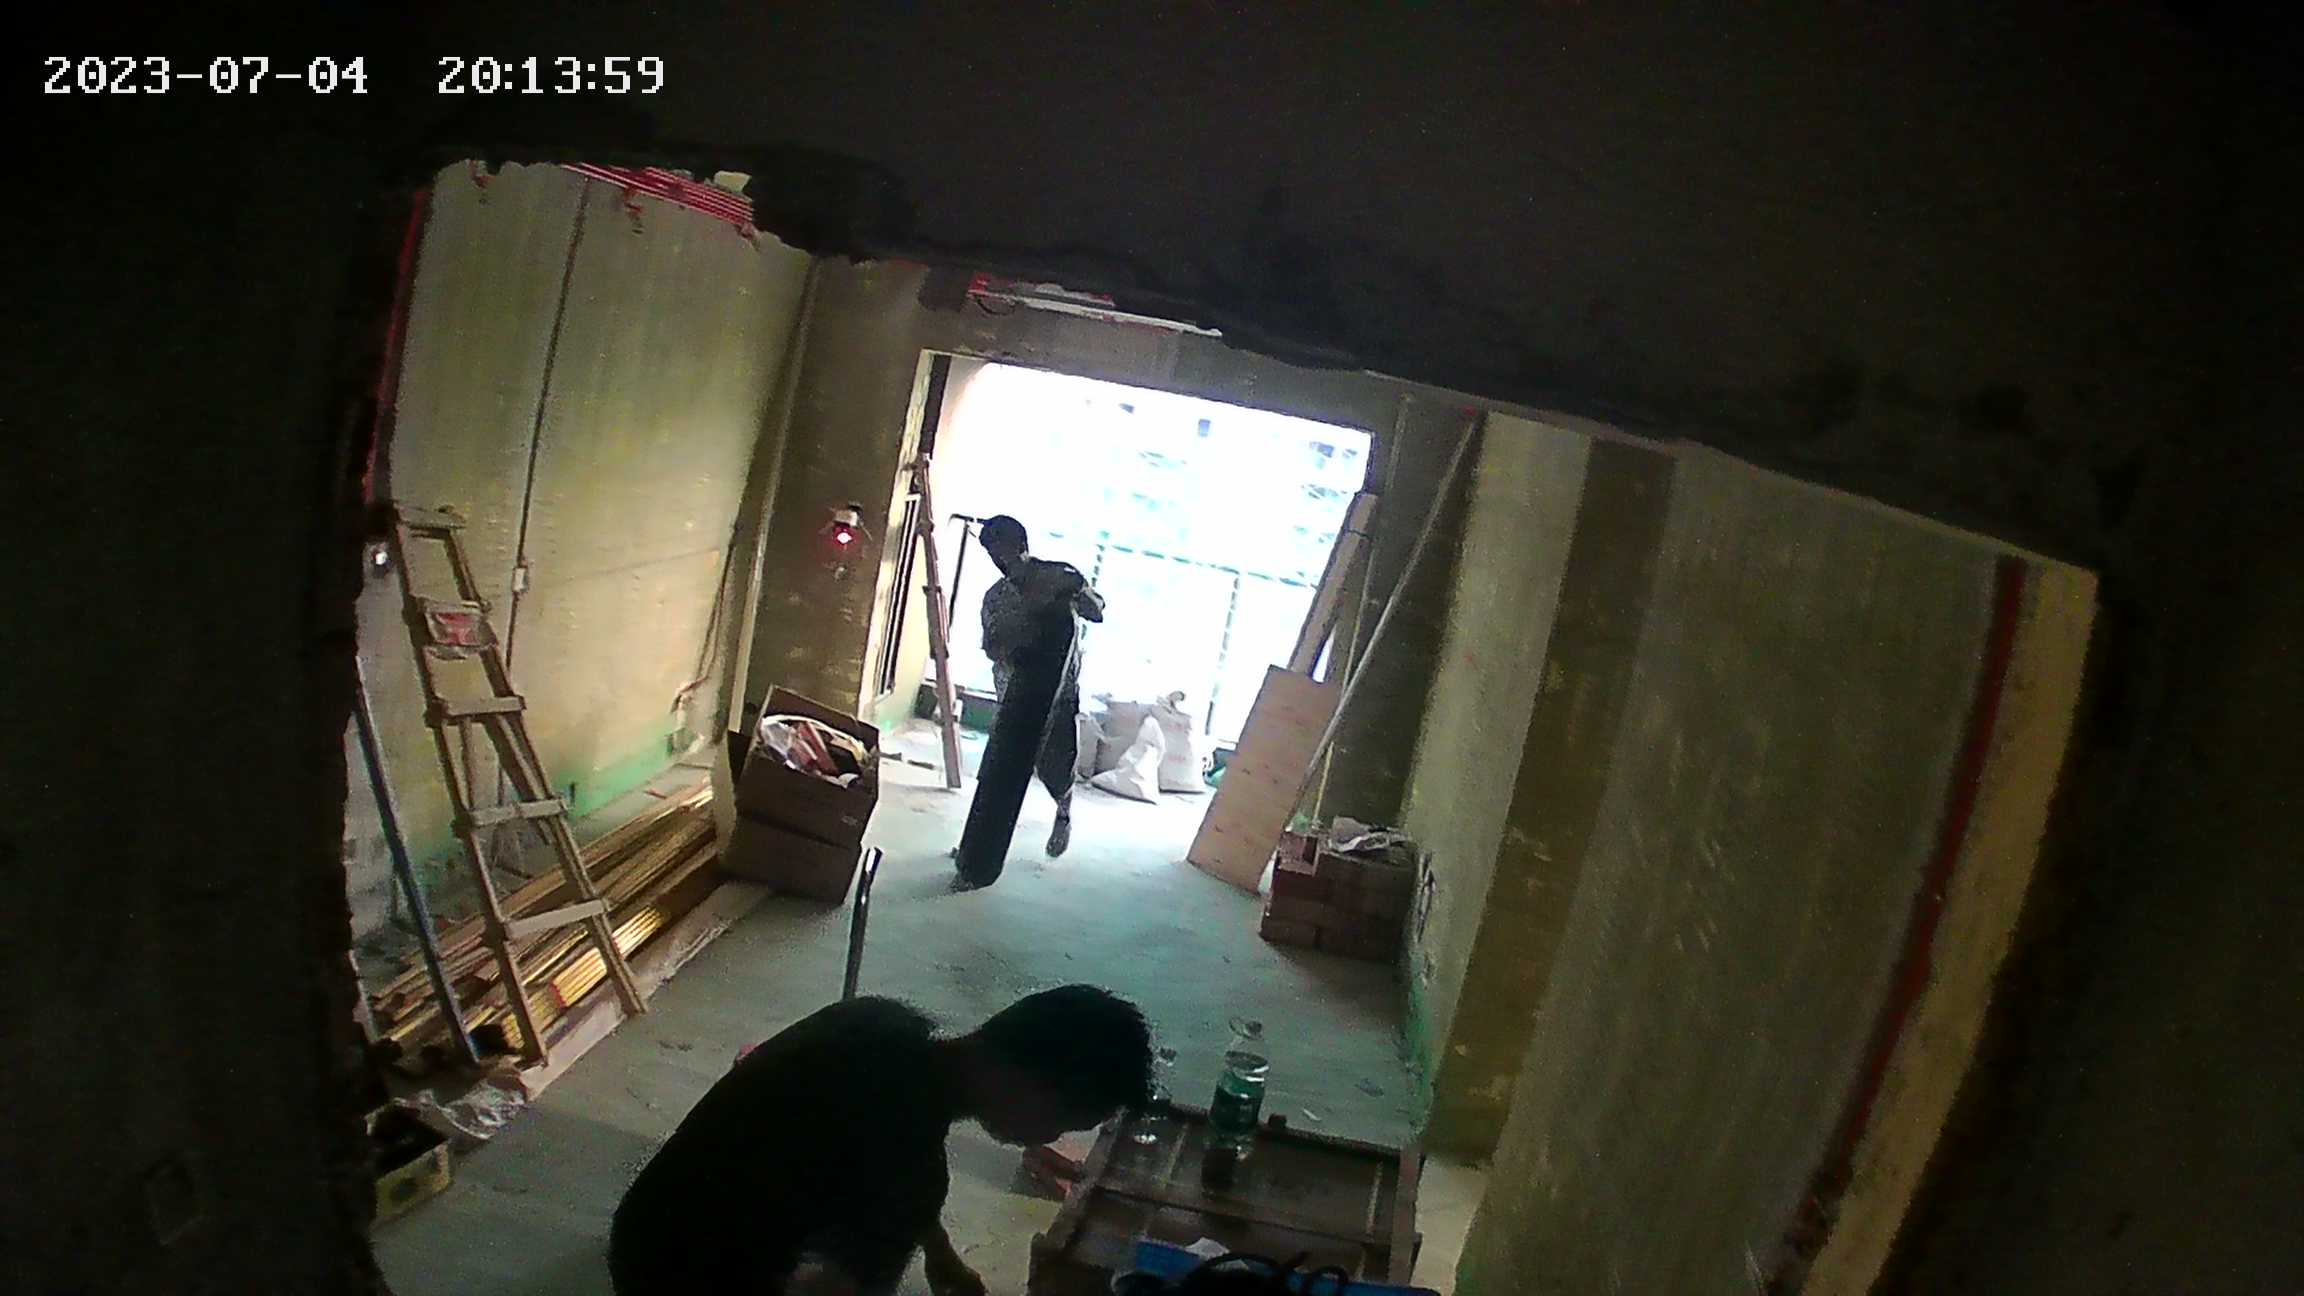people: (601, 980, 1151, 1295), (961, 519, 1109, 858)
window: (937, 344, 1363, 785)
